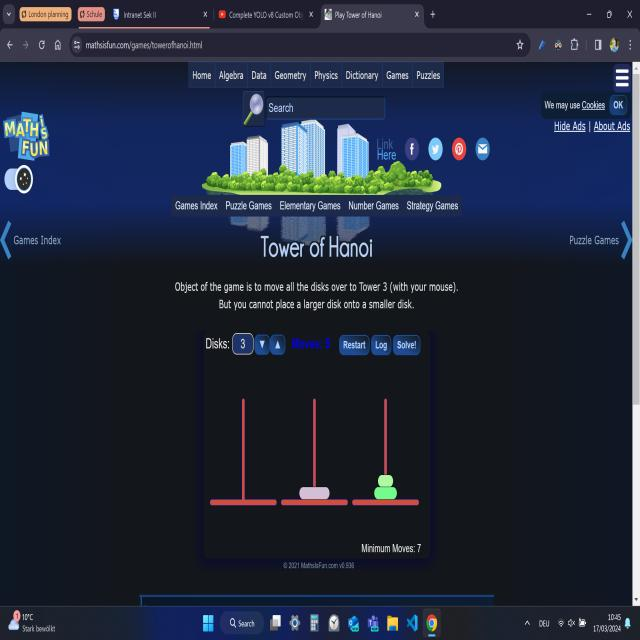disk1: (378, 474, 393, 487)
disk2: (374, 487, 397, 499)
disk3: (300, 487, 330, 499)
